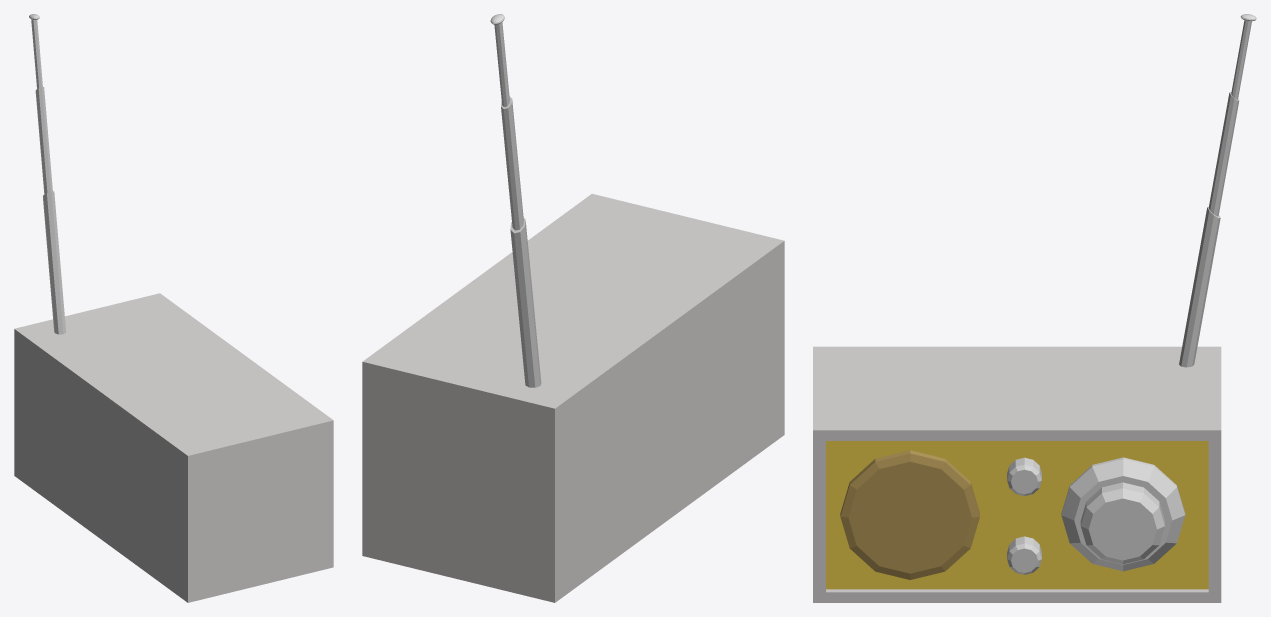
Rendered from Radio.fbx.
The picture shows the model from 3 angles, left to right: view 1: azimuth 30°, elevation 25°; view 2: azimuth 150°, elevation 25°; view 3: azimuth 270°, elevation 25°; orthographic projection. The views are drawn at different scales.
Parts seen in each view (by area): view 1: Cube low, antenne 1 L, antenne 2 L, antenne 3 L; view 2: Cube low, antenne 1 L, antenne 2 L, antenne 3 L; view 3: Cube low, speaker low, kanaler indikator low, kanaler low, antenne 1 L, antenne 2 L, lyd low, on and off low, antenne 3 L.
Part boxes in pixels (x1=…): Cube low: x1=14, y1=293, x2=333, y2=602; antenne 1 L: x1=43, y1=191, x2=66, y2=334; antenne 2 L: x1=35, y1=87, x2=52, y2=194; antenne 3 L: x1=31, y1=19, x2=42, y2=88; Cube low: x1=362, y1=194, x2=784, y2=602; antenne 1 L: x1=510, y1=218, x2=541, y2=387; antenne 2 L: x1=501, y1=96, x2=523, y2=230; antenne 3 L: x1=494, y1=22, x2=509, y2=106; Cube low: x1=813, y1=346, x2=1221, y2=602; speaker low: x1=840, y1=450, x2=979, y2=579; kanaler indikator low: x1=1061, y1=457, x2=1185, y2=571; kanaler low: x1=1080, y1=482, x2=1164, y2=564; antenne 1 L: x1=1179, y1=206, x2=1220, y2=367; antenne 2 L: x1=1208, y1=92, x2=1239, y2=216; lyd low: x1=1007, y1=536, x2=1041, y2=574; on and off low: x1=1007, y1=457, x2=1041, y2=495; antenne 3 L: x1=1231, y1=20, x2=1251, y2=99.
Bounding box in the file's own units: 240 × 605 × 466.
